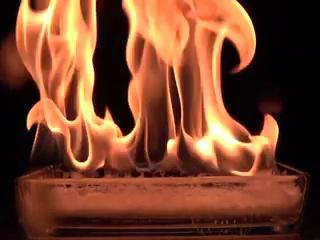Fire: (24, 1, 287, 181)
